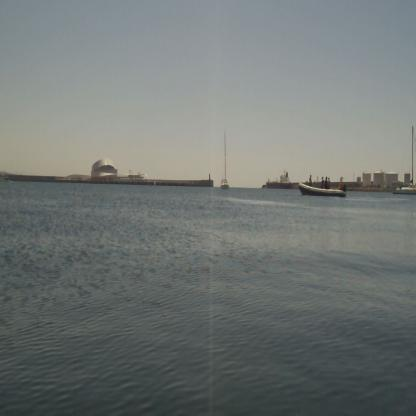Container Ship: (266, 171, 293, 188)
